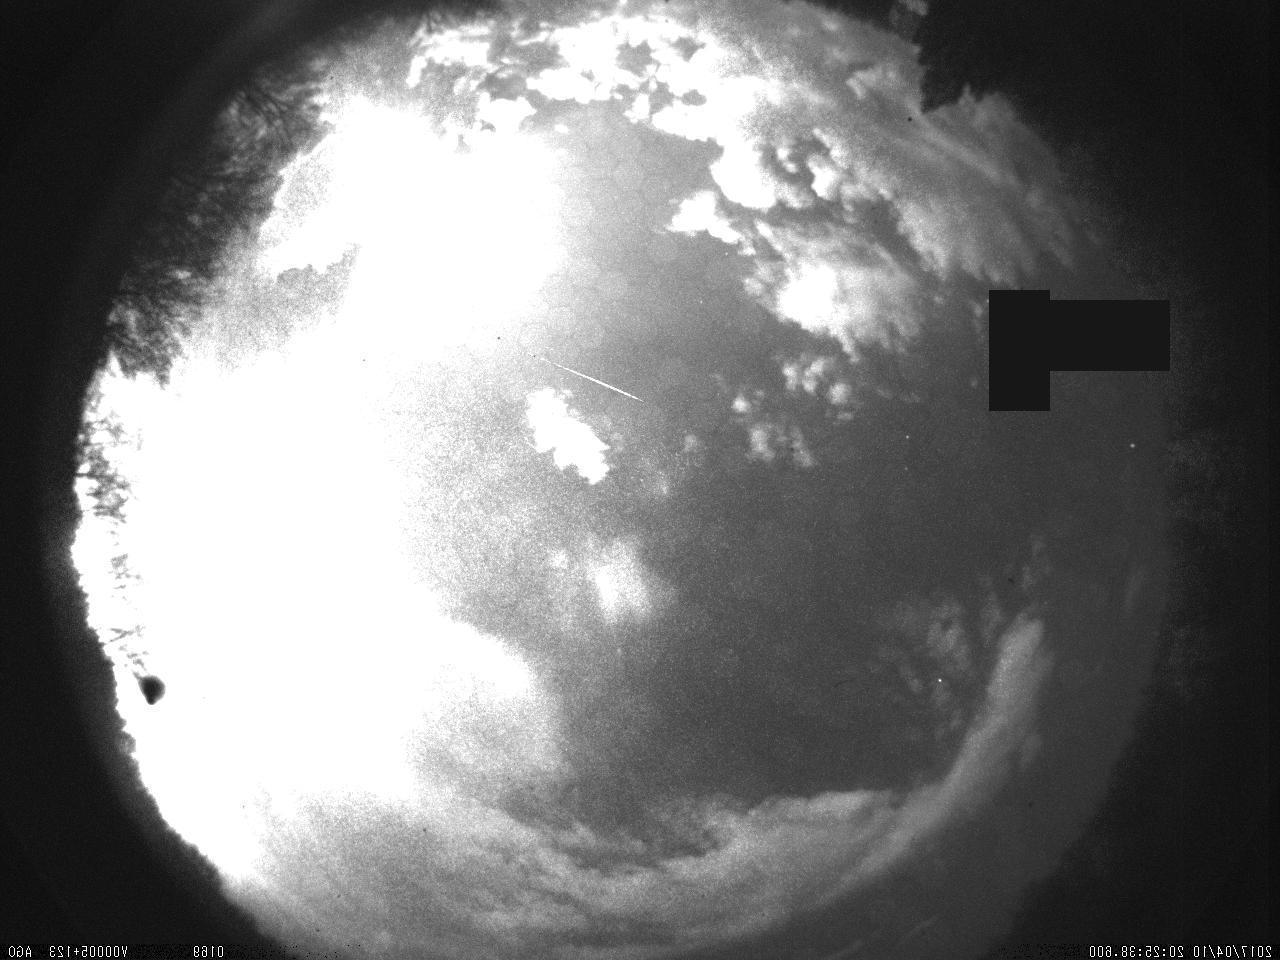meteor: (522, 344, 650, 409)
